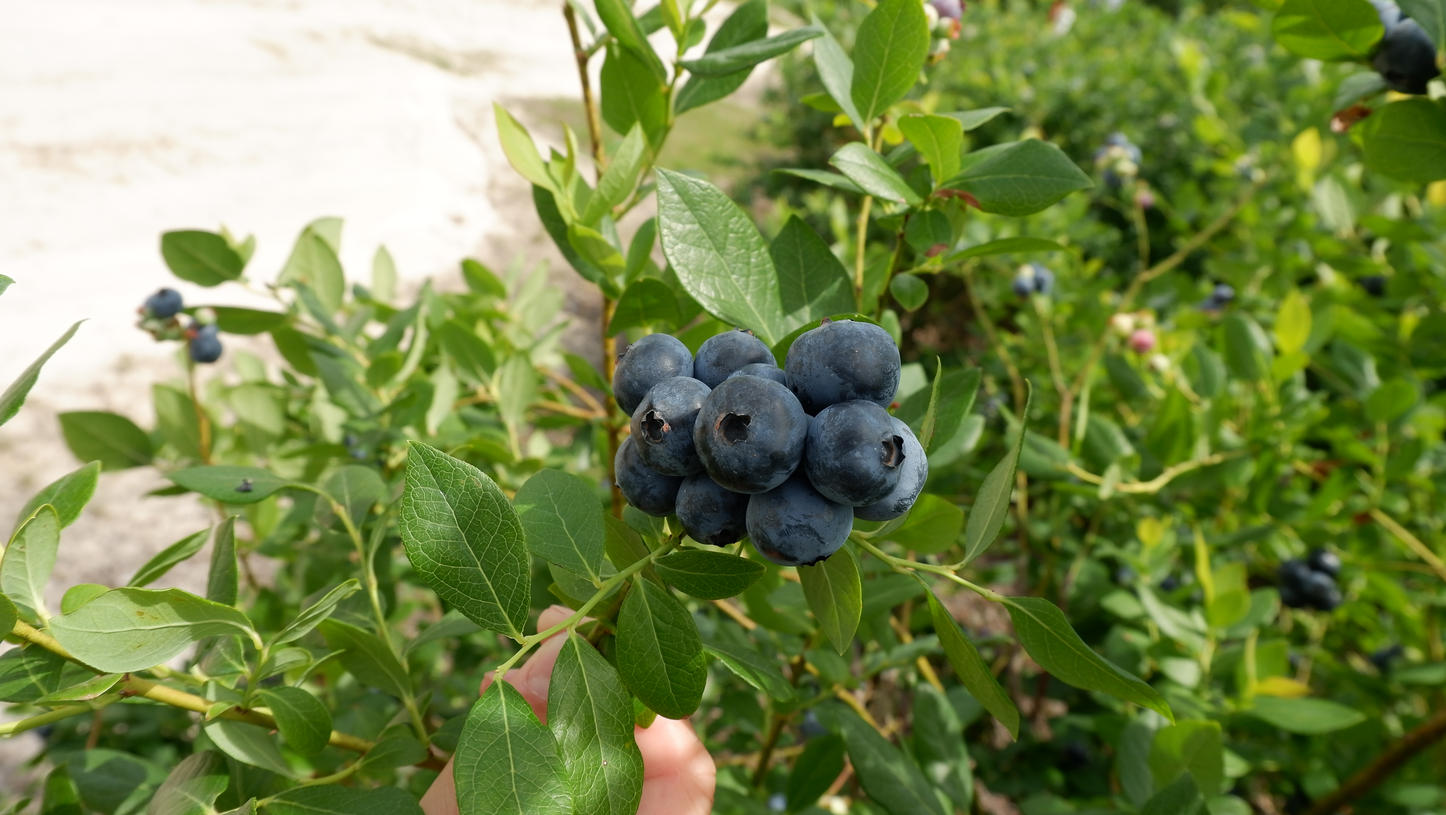Mature: (693, 374, 813, 494), (785, 318, 901, 417), (746, 459, 853, 565), (805, 400, 907, 506), (851, 416, 929, 522), (631, 376, 711, 475), (613, 333, 695, 418), (675, 463, 751, 545), (614, 433, 689, 515), (694, 327, 778, 389), (710, 363, 786, 391)
